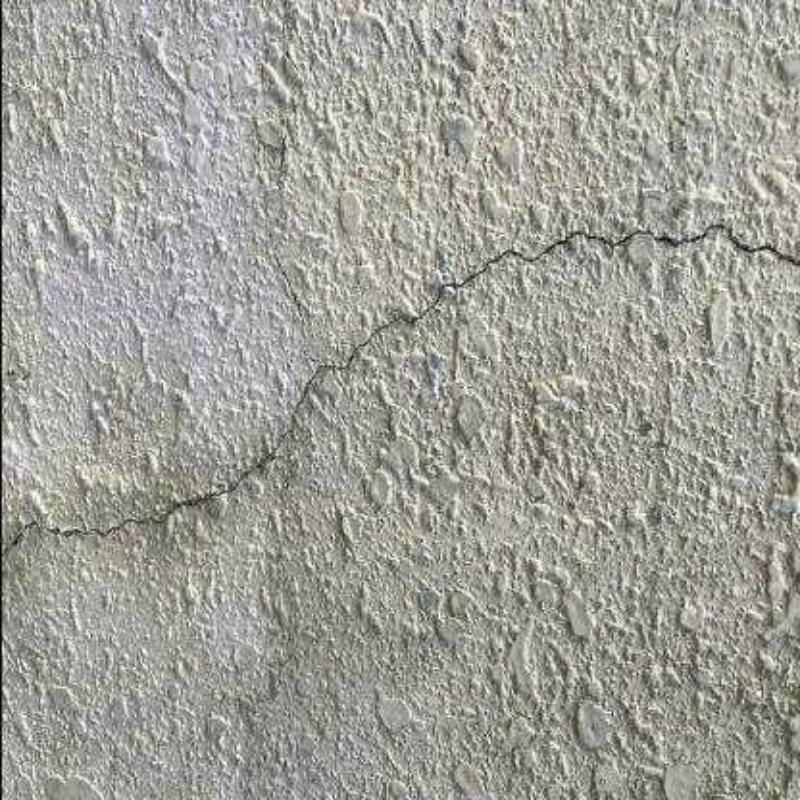pothole: (2, 223, 800, 558)
